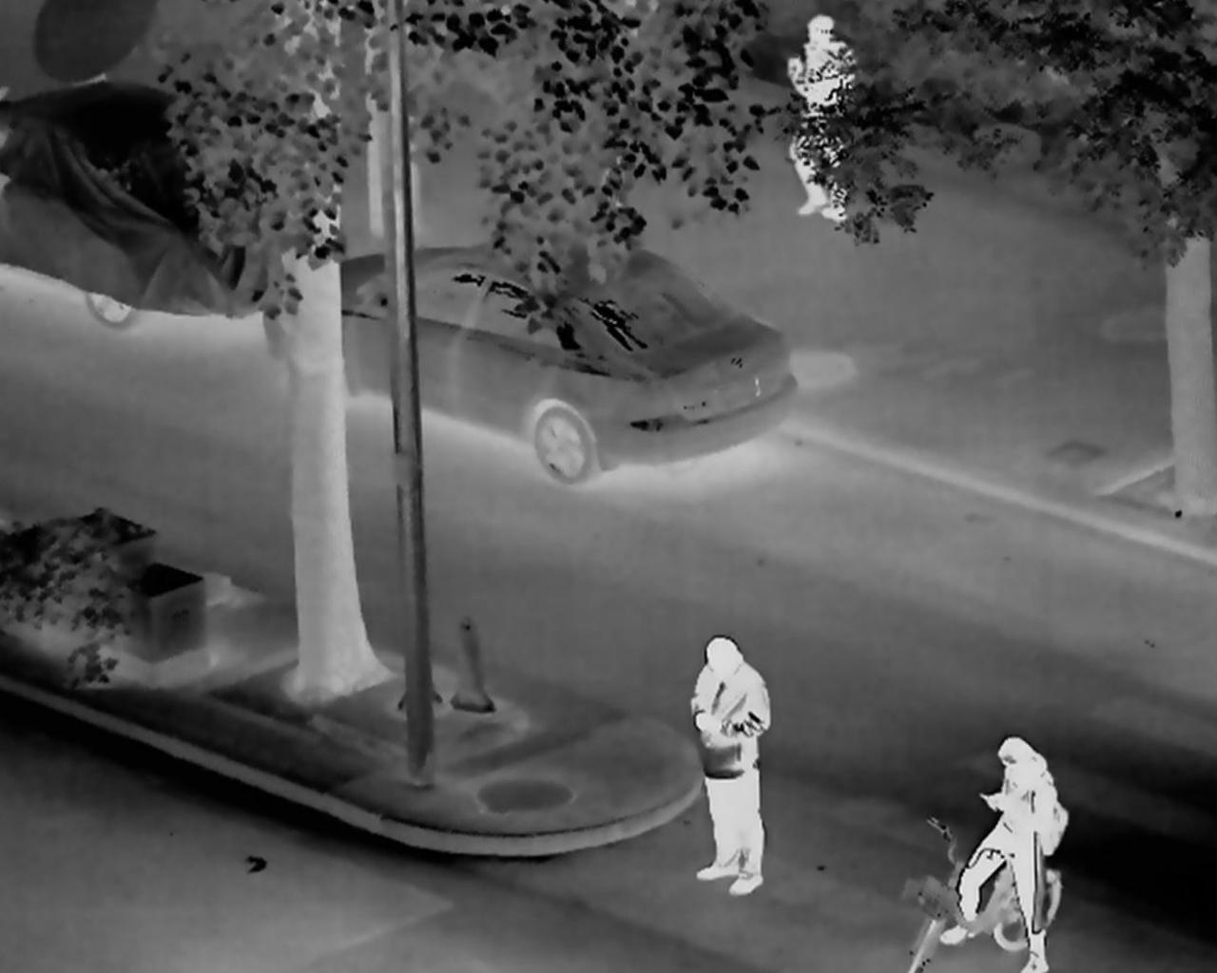person: (942, 737, 1056, 973), (687, 638, 772, 897), (785, 15, 857, 222)
